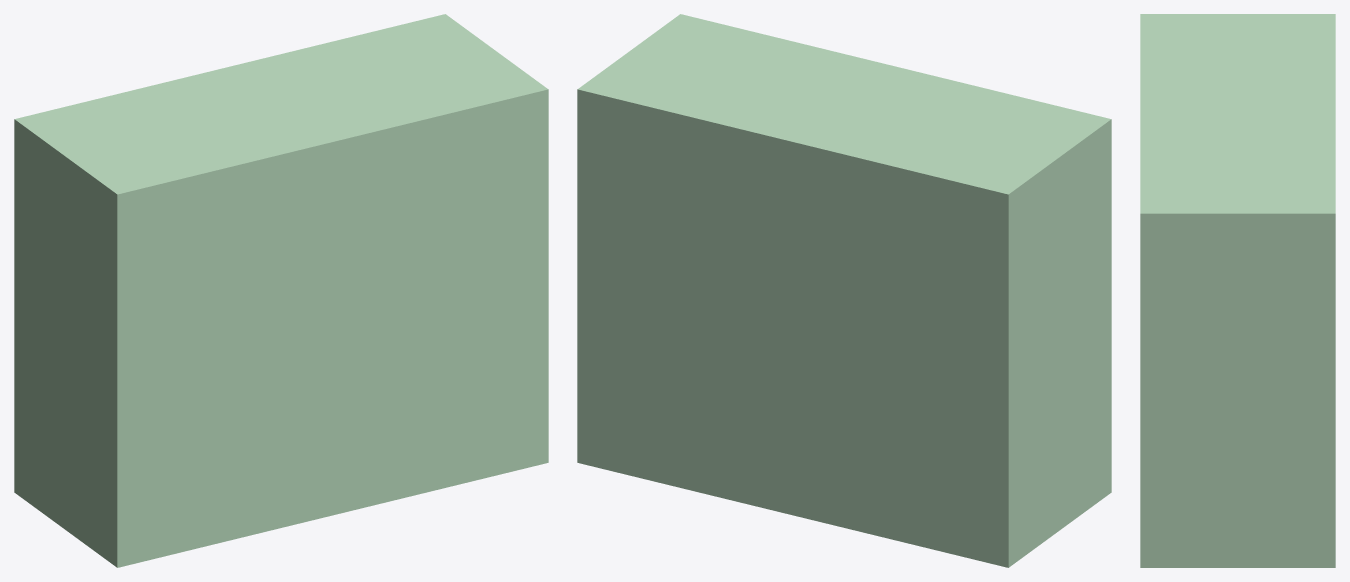
The model's file is wall0_8mHeight1mWidth.fbx.
3 views of the same model, side by side, from view 1: azimuth 30°, elevation 25°; view 2: azimuth 150°, elevation 25°; view 3: azimuth 270°, elevation 25° (orthographic). The views are drawn at different scales.
Visible parts, largest first — view 1: wall0_8mHeight1mWidth; view 2: wall0_8mHeight1mWidth; view 3: wall0_8mHeight1mWidth.
Boxes of the visible parts, x1,y1,x2,y2 form: wall0_8mHeight1mWidth: (14,14,548,567); wall0_8mHeight1mWidth: (577,14,1111,567); wall0_8mHeight1mWidth: (1140,14,1335,567).
Size of the model in its own units: 0.9664 by 0.8 by 0.4.
